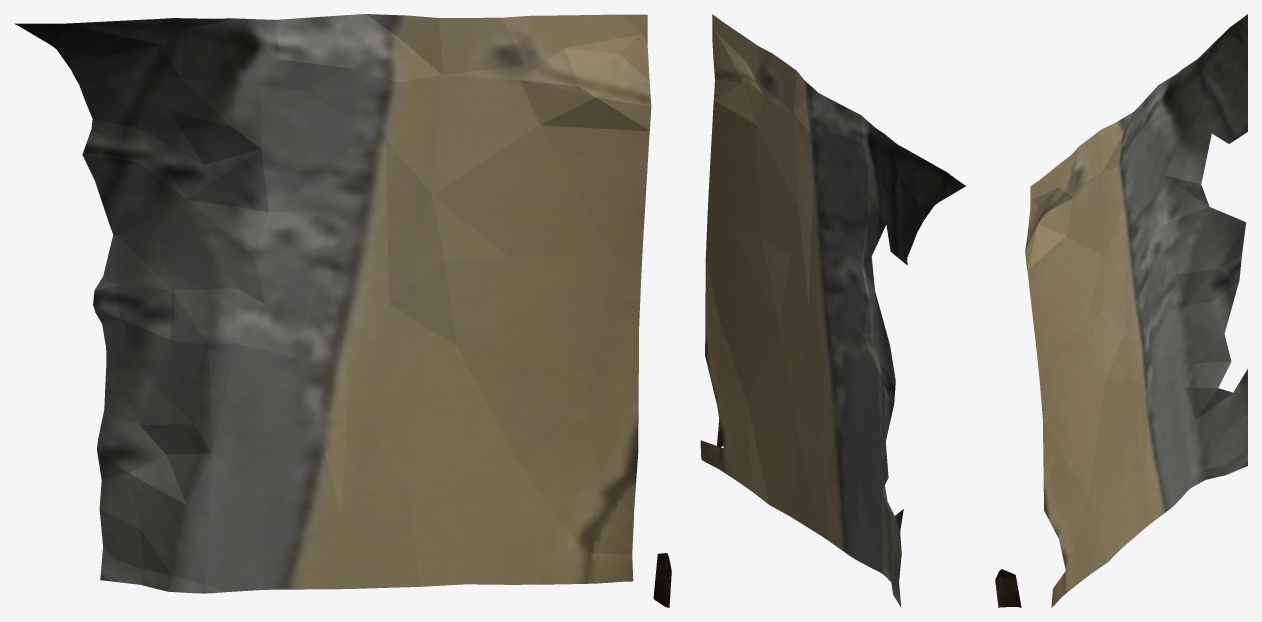
The picture shows the model from 3 angles, left to right: view 1: azimuth 30°, elevation 25°; view 2: azimuth 150°, elevation 25°; view 3: azimuth 270°, elevation 25°; orthographic projection. The views are drawn at different scales.
Bounding box in the file's own units: 0.7354 × 0.8374 × 0.455.
Materials: 2 (2 with a texture image).
